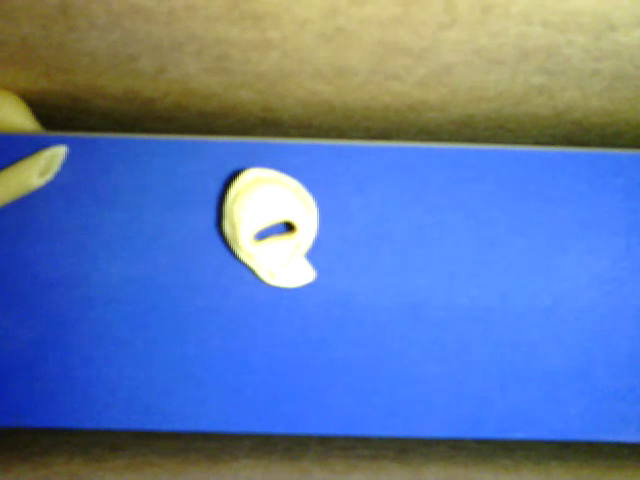penne: (1, 143, 69, 206)
tortellini: (220, 166, 318, 292)
